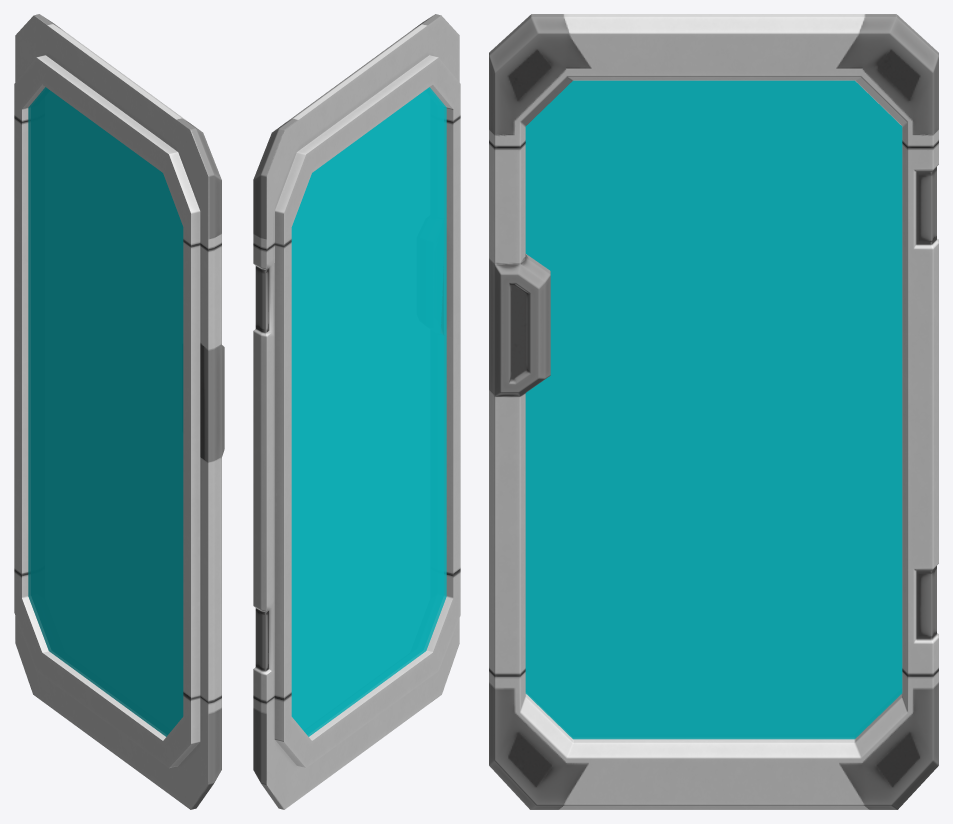
Rendered from SM_LabFridge01_2_DoorR.FBX.
The picture shows the model from 3 angles, left to right: view 1: azimuth 30°, elevation 25°; view 2: azimuth 150°, elevation 25°; view 3: azimuth 270°, elevation 25°; orthographic projection. The views are drawn at different scales.
Visible parts, largest first — view 1: SM_LabFridge01_2_DoorR; view 2: SM_LabFridge01_2_DoorR; view 3: SM_LabFridge01_2_DoorR.
Boxes of the visible parts, x1,y1,x2,y2 form: SM_LabFridge01_2_DoorR: (14,14,224,809); SM_LabFridge01_2_DoorR: (253,14,460,809); SM_LabFridge01_2_DoorR: (489,14,938,809).
Size of what is drawn, in the model's own units: 7.5 by 81.34 by 158.
